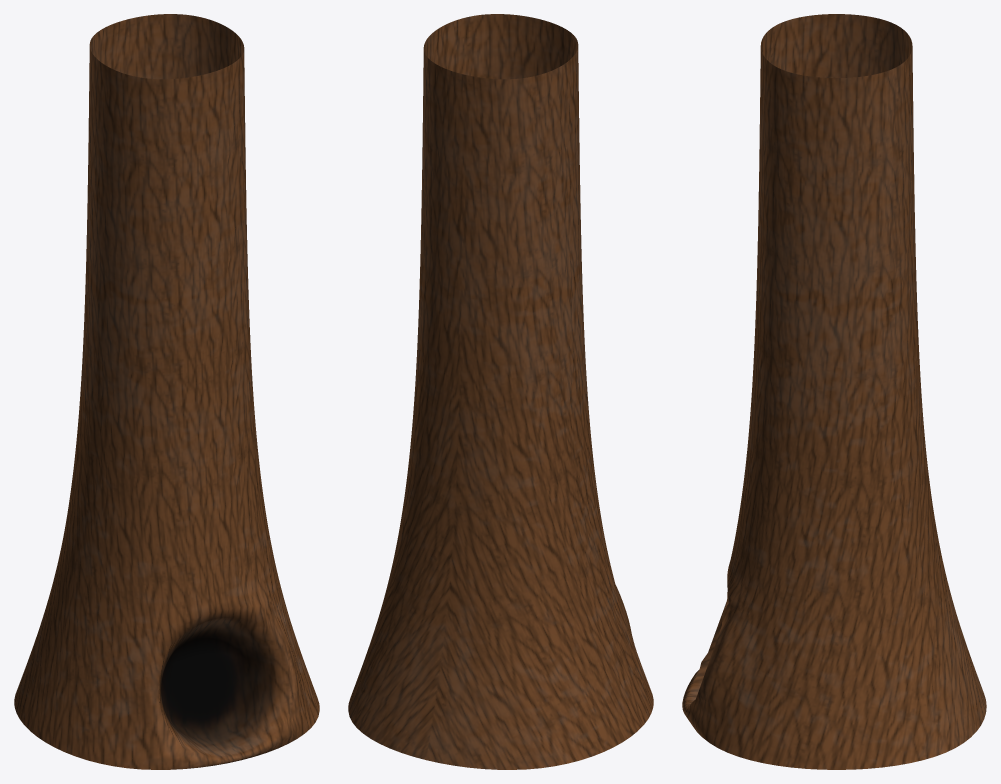
File: Tree.fbx
The picture shows the model from 3 angles, left to right: view 1: azimuth 30°, elevation 25°; view 2: azimuth 150°, elevation 25°; view 3: azimuth 270°, elevation 25°; orthographic projection.
Visible parts, largest first — view 1: Tree; view 2: Tree; view 3: Tree.
Part boxes in pixels (x1,y1,x2,y2): Tree: [14, 14, 319, 769]; Tree: [348, 14, 653, 769]; Tree: [682, 14, 986, 769].
Bounding box in the file's own units: 5.45 × 13.24 × 5.53.
